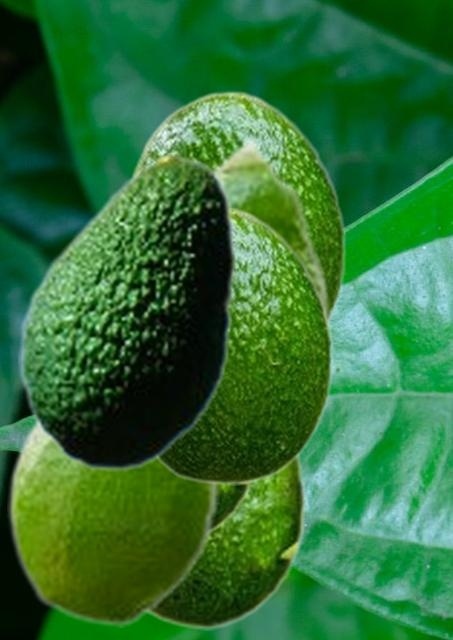avocado: (18, 153, 235, 471), (127, 90, 346, 326), (155, 206, 333, 484), (7, 416, 218, 626), (146, 453, 306, 629), (209, 134, 330, 323), (212, 483, 255, 536)
